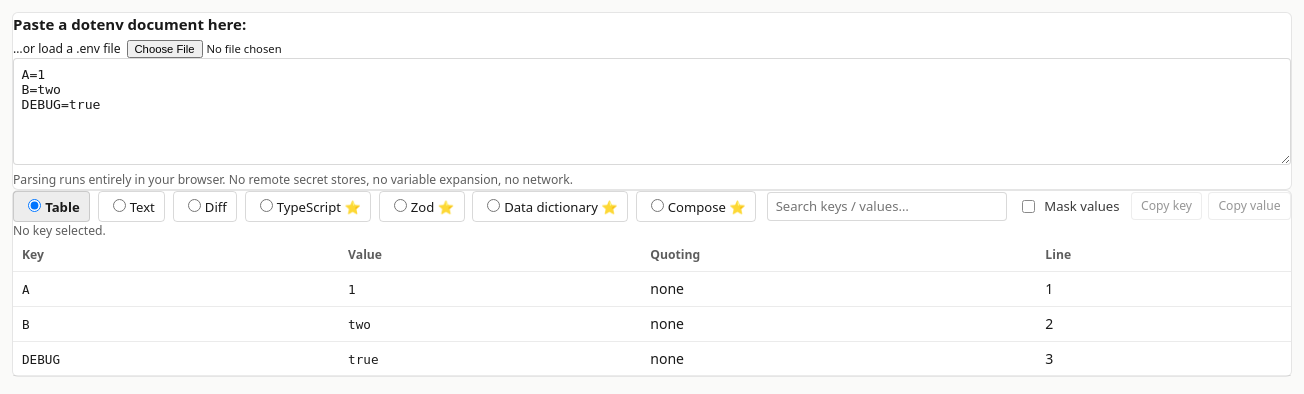
EnvApp integration › switches to the text view
The width and height of the screenshot is (1304, 394).
Click the radio button labelled "Text". click: point(119, 205)
box: [113, 198, 126, 212]
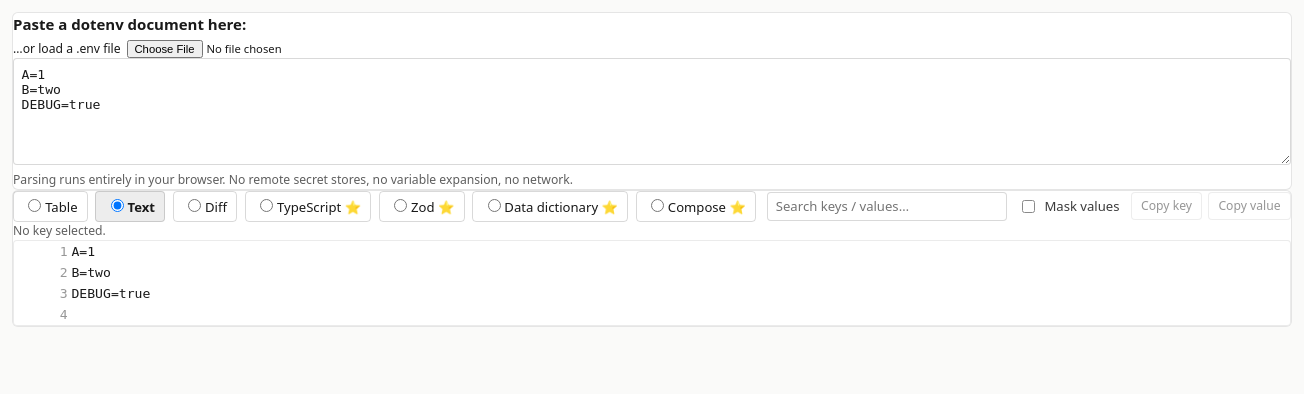
Result: the element named "NekoEnv text view" is shown at [13, 240, 1291, 326]
